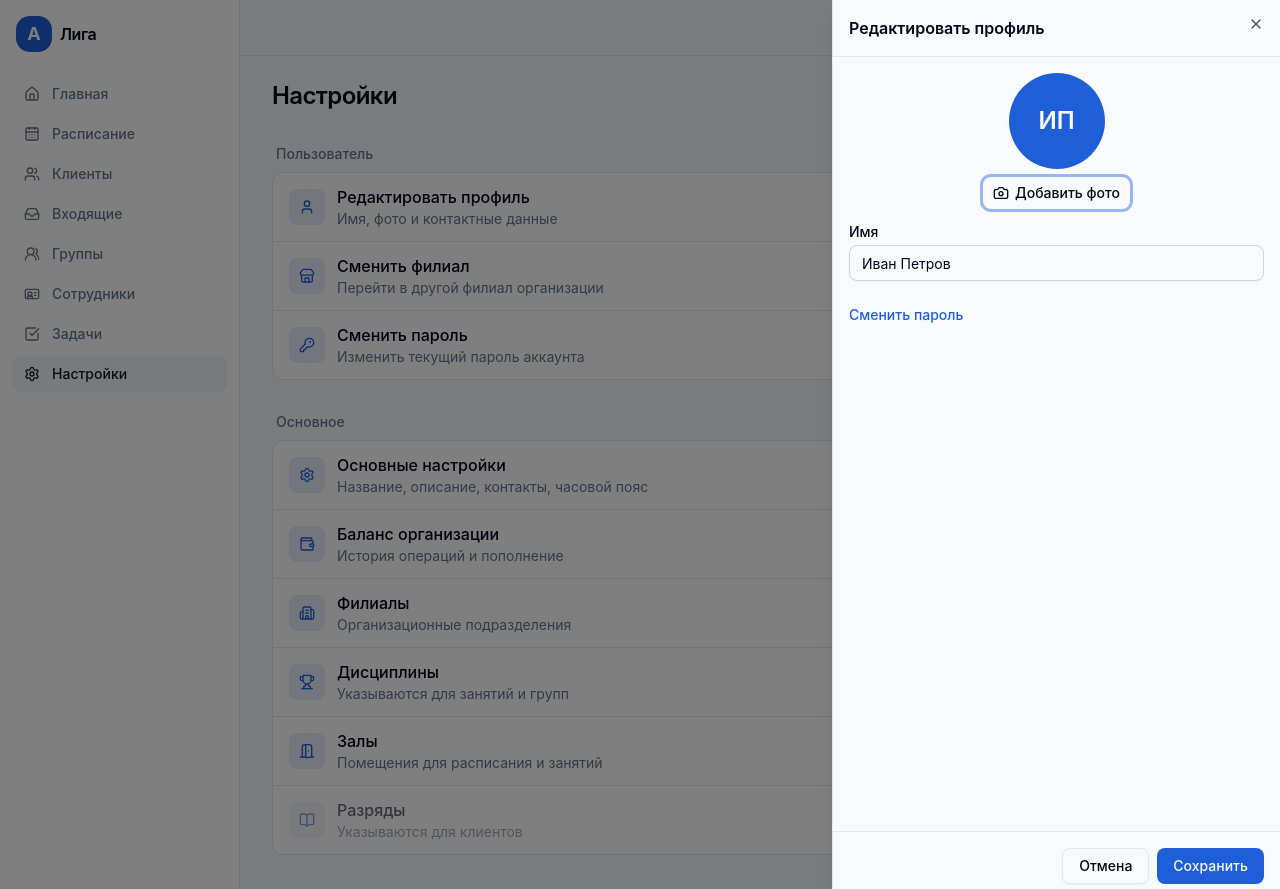
Test: профиль › сохраняет обрезанное имя, и новое имя видно в меню аккаунта
Replace the text in the field labelled "Имя" with "  Пётр Иванов " at (1056, 263), box [849,245,1264,281]
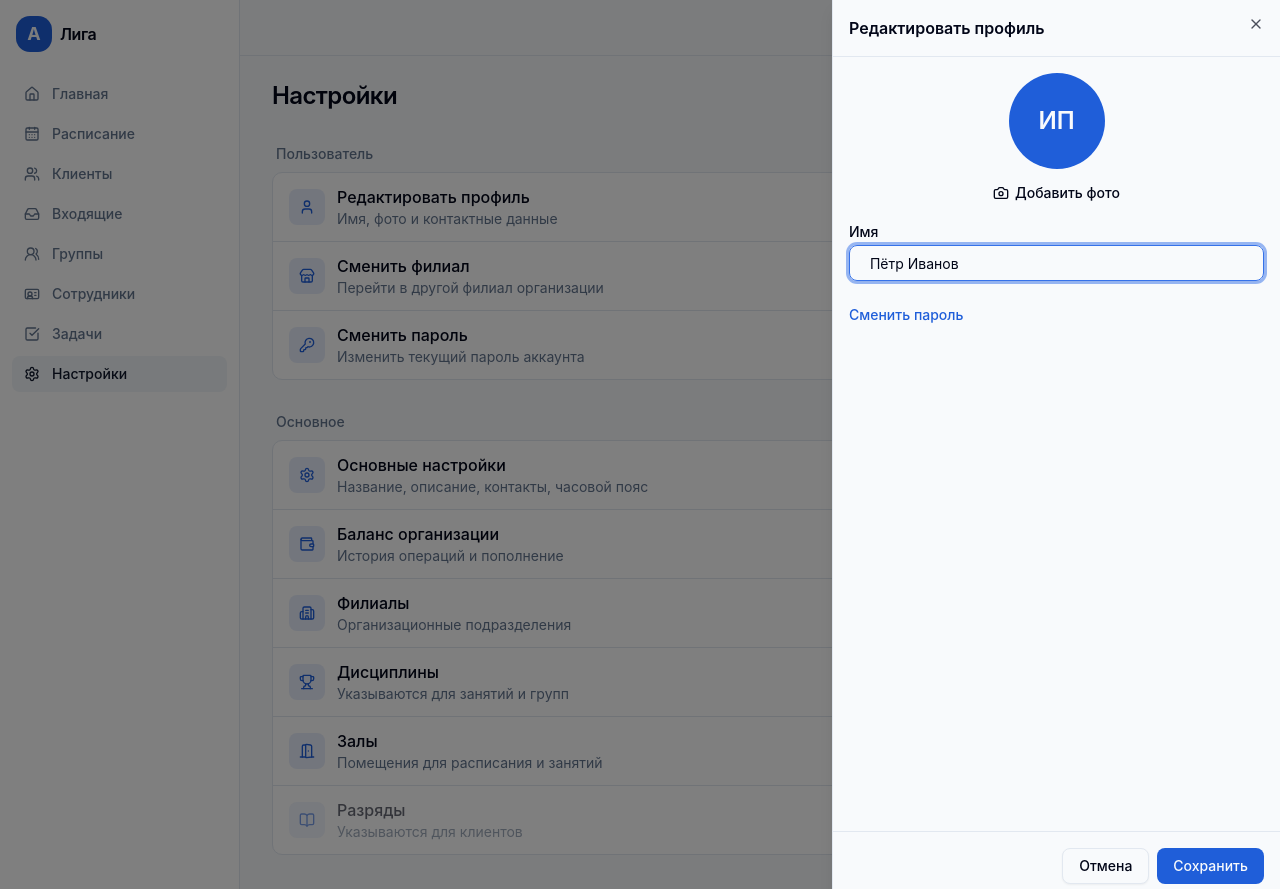
Click the button "Сохранить" at (1211, 866), box [1157,848,1264,884]
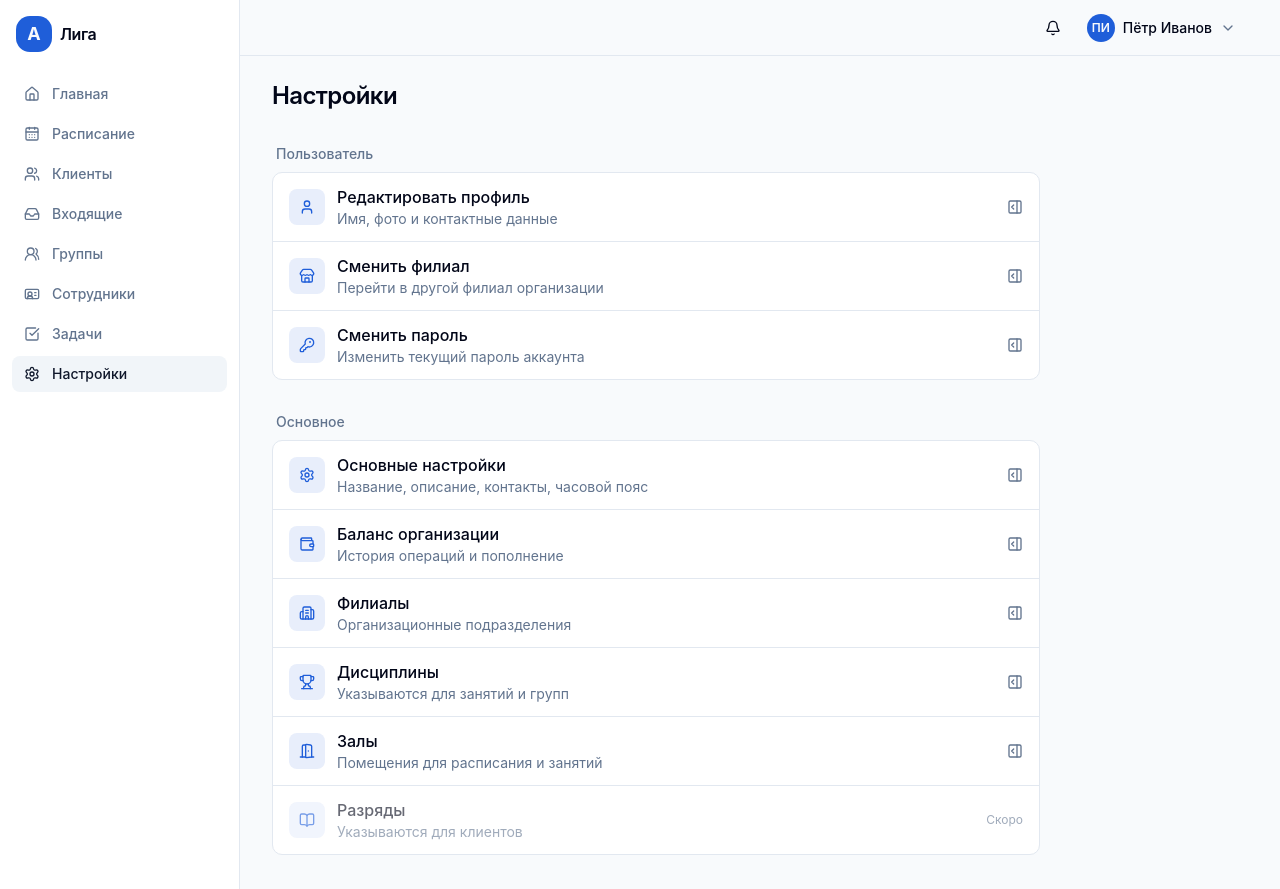
Check: the button with aria-label "Меню аккаунта" shows "Пётр Иванов", box [1075,10,1248,46]
